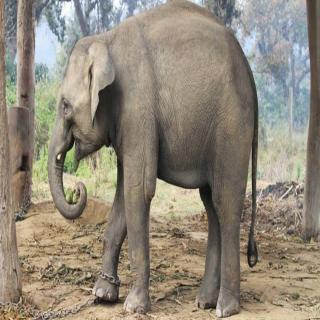Elephant: (46, 0, 262, 320)
